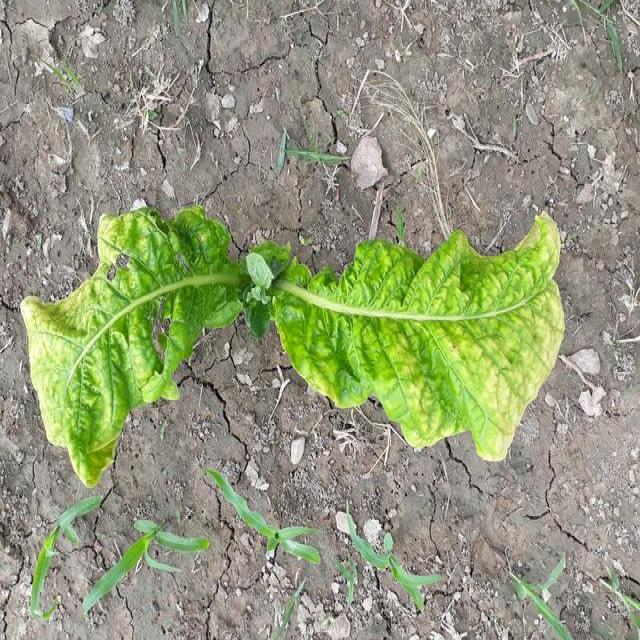crop: (27, 211, 564, 480)
